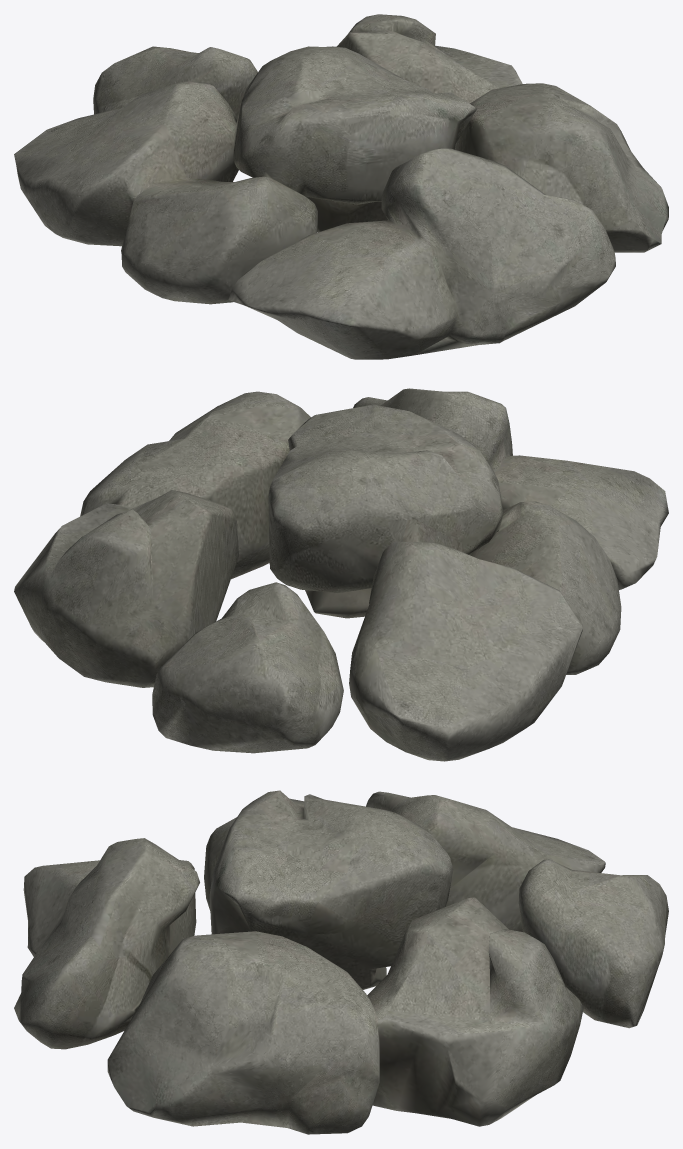
File: rock-a.glb
3 views of the same model, one above another, from view 1: azimuth 30°, elevation 25°; view 2: azimuth 150°, elevation 25°; view 3: azimuth 270°, elevation 25° (orthographic). The views are drawn at different scales.
Bounding box in the file's own units: 1.73 × 0.6066 × 1.9.
Materials: 1 (1 with a texture image).
